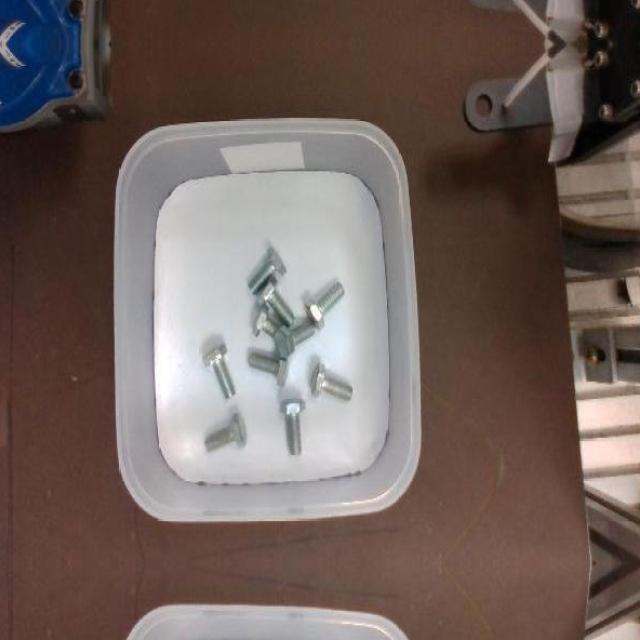screw: (305, 282, 345, 330), (257, 274, 294, 325), (248, 245, 286, 293), (203, 343, 236, 397), (204, 413, 247, 452), (312, 362, 352, 401), (274, 322, 314, 358), (248, 351, 288, 386), (280, 399, 305, 455)
